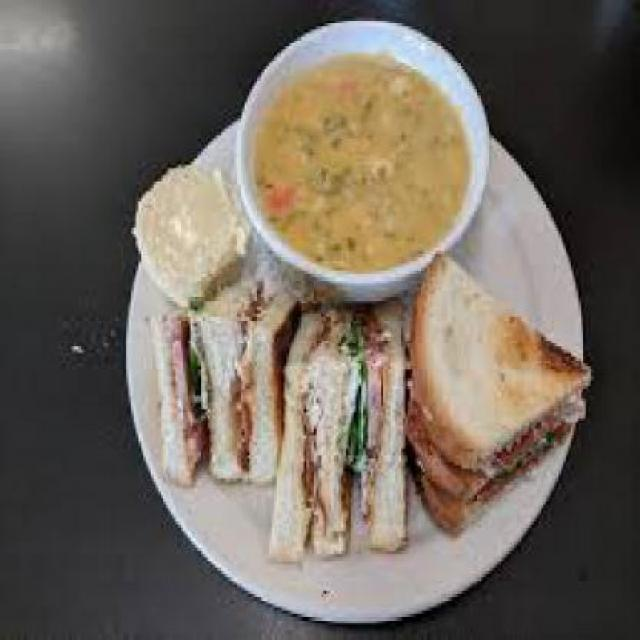clam chowder: (225, 3, 484, 277)
club sandwich: (124, 268, 605, 568)
